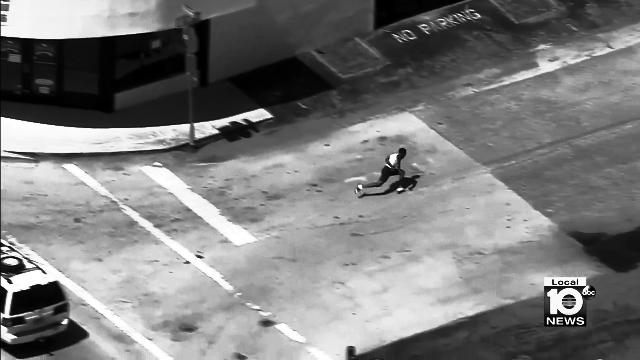berlari: (354, 142, 410, 202)
